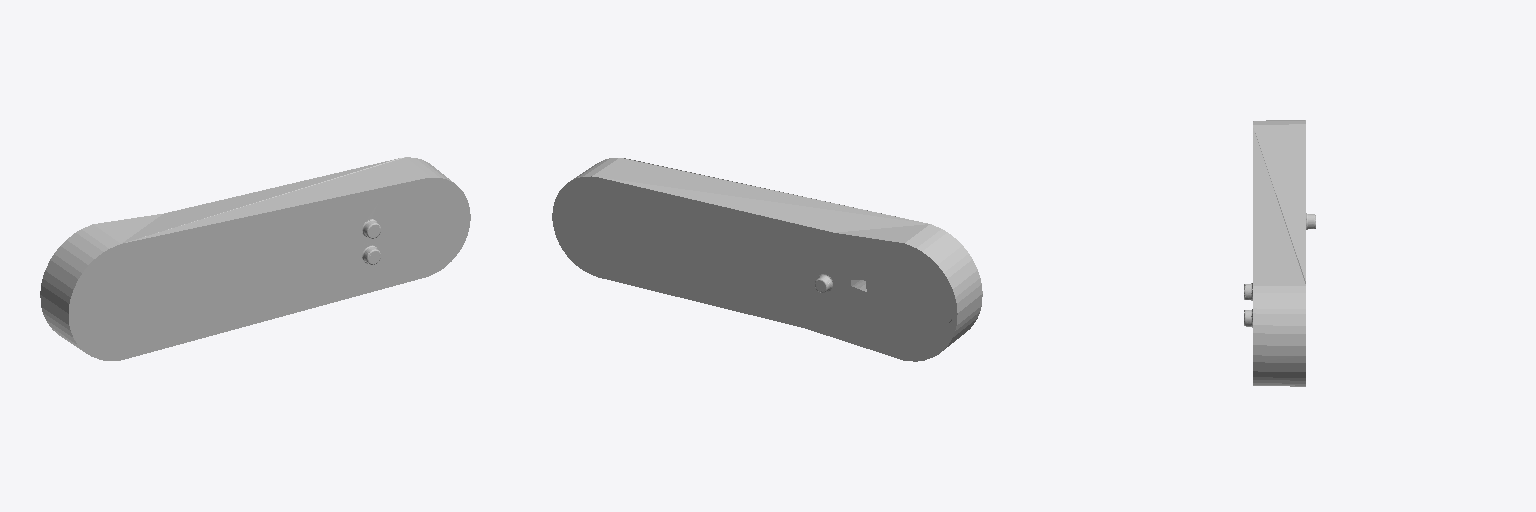
Rendered from base_arm.obj.
3 views of the same model, side by side, from view 1: azimuth 30°, elevation 25°; view 2: azimuth 150°, elevation 25°; view 3: azimuth 270°, elevation 25° (orthographic).
Parts seen in each view (by area): view 1: arm; view 2: arm; view 3: arm.
Part boxes in pixels (x1,y1,x2,y2): arm: (40, 157, 470, 360); arm: (552, 158, 982, 361); arm: (1244, 120, 1315, 386).
Size of the model in its own units: 0.4159 by 0.1152 by 0.0637.